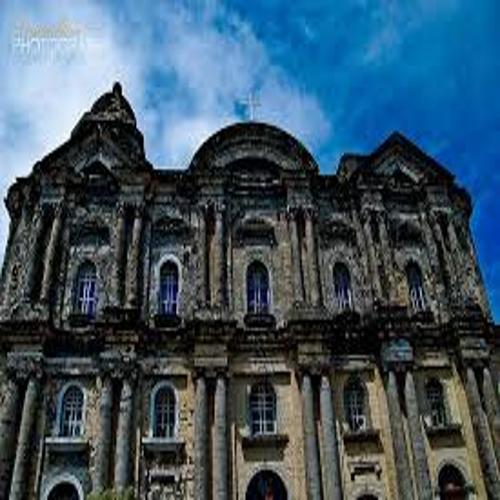Taal Basilica Church: (8, 80, 500, 500)
